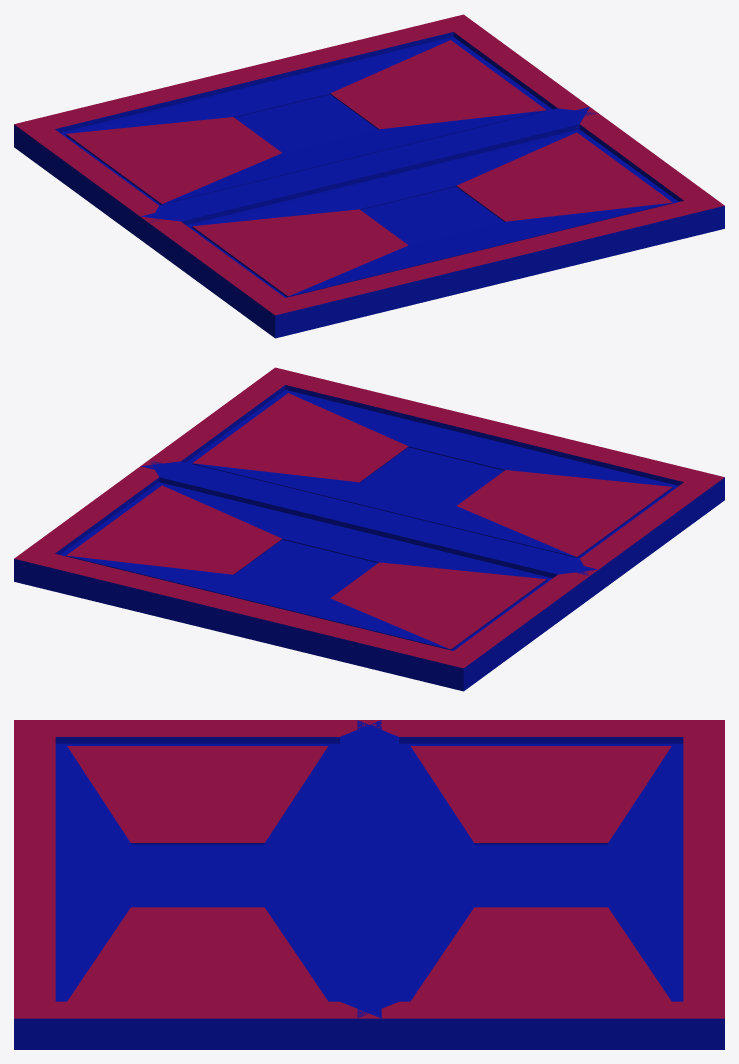
Rendered from FloorPanel_01.fbx.
The picture shows the model from 3 angles, top to bottom: view 1: azimuth 30°, elevation 25°; view 2: azimuth 150°, elevation 25°; view 3: azimuth 270°, elevation 25°; orthographic projection. The views are drawn at different scales.
Visible parts, largest first — view 1: Cube; view 2: Cube; view 3: Cube.
Part boxes in pixels (bbox=[...]): Cube: bbox=[14, 14, 724, 338]; Cube: bbox=[14, 367, 724, 691]; Cube: bbox=[14, 720, 724, 1049].
Bounding box in the file's own units: 1600 × 78.39 × 1610.
